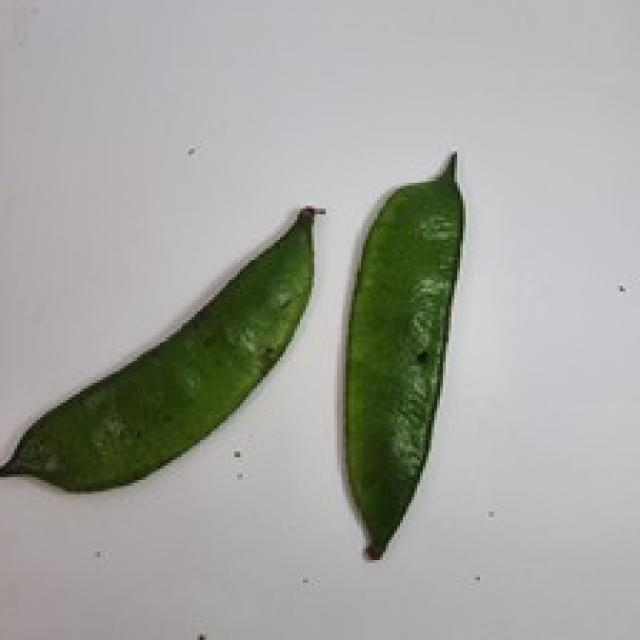Bean: (0, 203, 326, 494), (340, 149, 466, 557)
